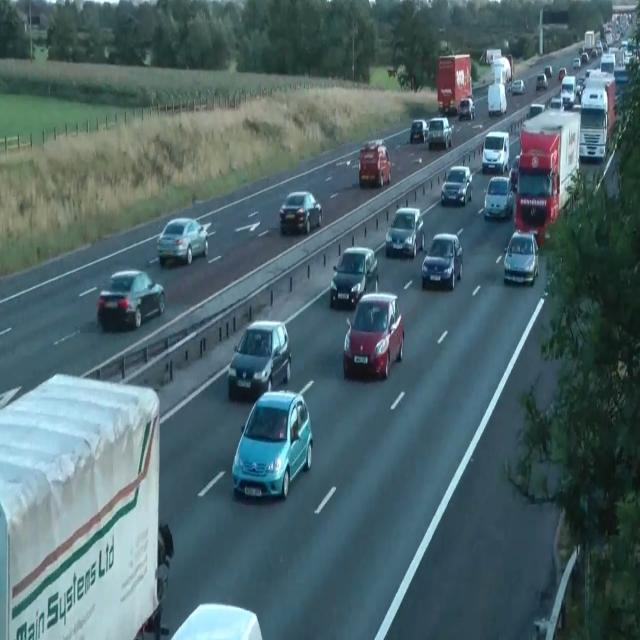bus: (231, 388, 313, 501), (343, 292, 404, 381), (227, 319, 291, 400), (97, 268, 165, 330), (137, 522, 173, 638), (170, 602, 262, 639), (330, 246, 378, 308), (157, 217, 209, 267), (421, 232, 463, 290), (385, 206, 425, 258), (503, 230, 539, 286), (278, 190, 322, 235), (483, 175, 513, 220), (440, 166, 472, 207), (560, 75, 576, 108), (410, 119, 428, 144), (508, 155, 520, 192), (457, 98, 475, 120), (600, 53, 615, 75), (613, 66, 629, 84), (548, 95, 564, 112), (529, 102, 545, 118), (576, 78, 586, 102), (511, 78, 525, 94), (536, 73, 547, 90), (558, 67, 566, 80), (544, 64, 552, 77), (387, 67, 397, 77), (572, 57, 580, 67), (581, 52, 589, 62)
jeep: (357, 142, 391, 188), (481, 130, 509, 174), (426, 116, 452, 150)
minibus: (0, 371, 172, 639), (514, 109, 580, 247), (574, 69, 616, 163), (437, 53, 472, 114), (487, 82, 507, 116), (492, 56, 512, 87), (479, 48, 501, 65)
